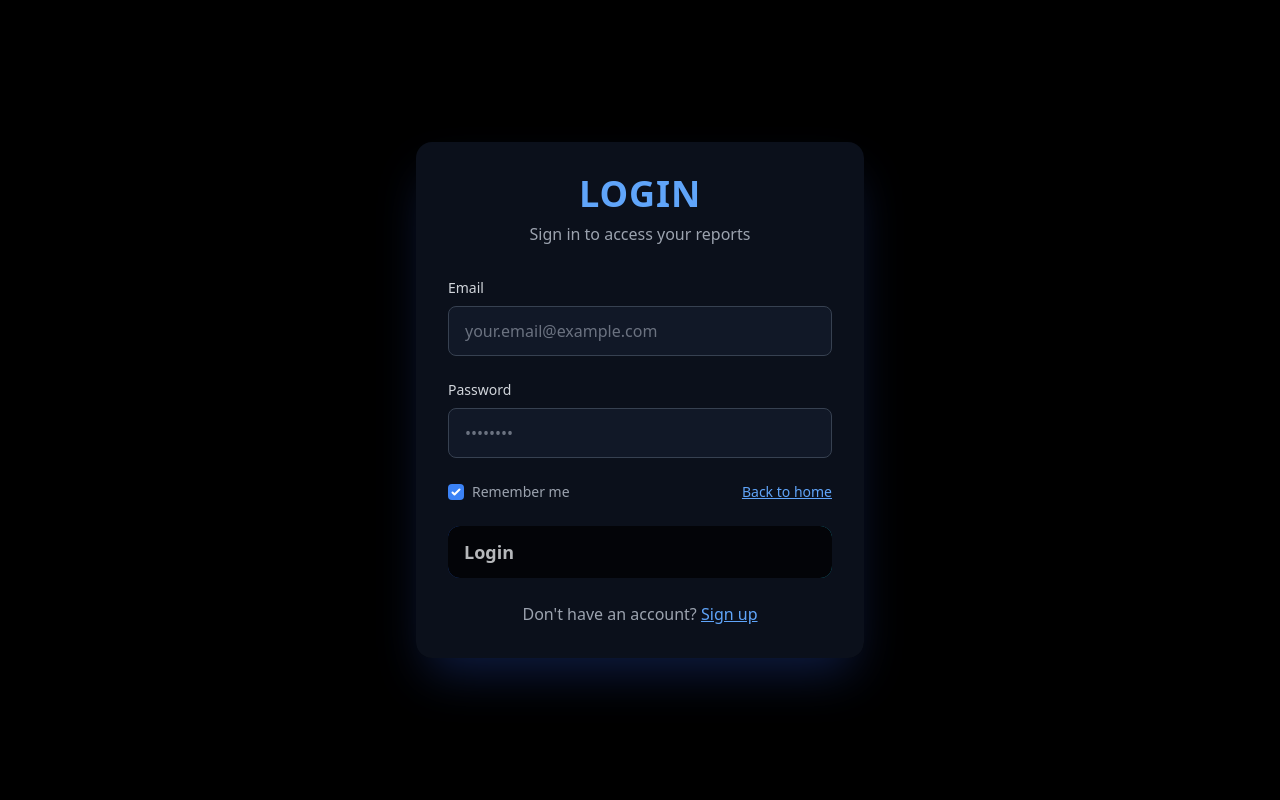
Test: LoginPage › shows fallback error message for unknown error types
This screenshot has width=1280, height=800.
Type "user@example.com" into the field labelled "Email". click: (640, 331)
box: [448,306,832,356]
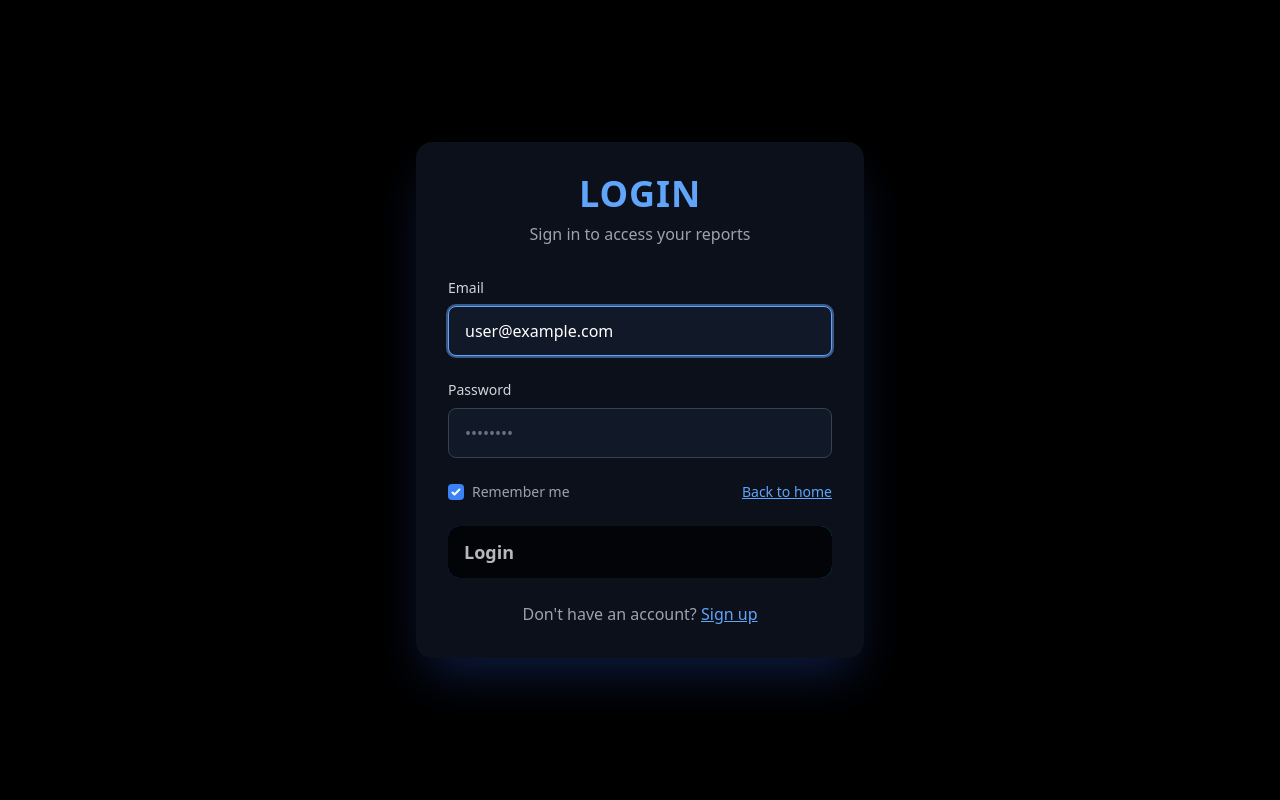
Type "password1" into the password field labelled "Password". click: (640, 433)
box: [448,408,832,458]
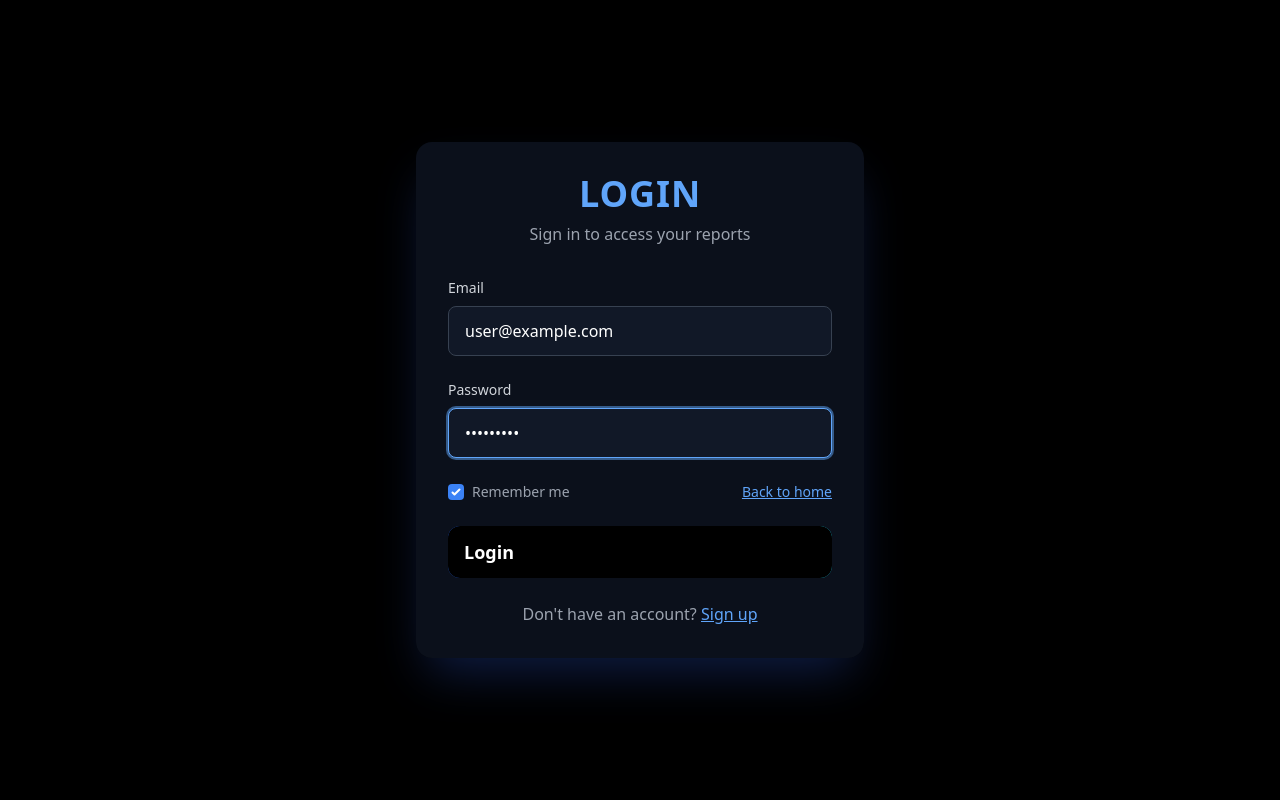
Click the button "Login". click: (489, 552)
box: [448,526,832,578]
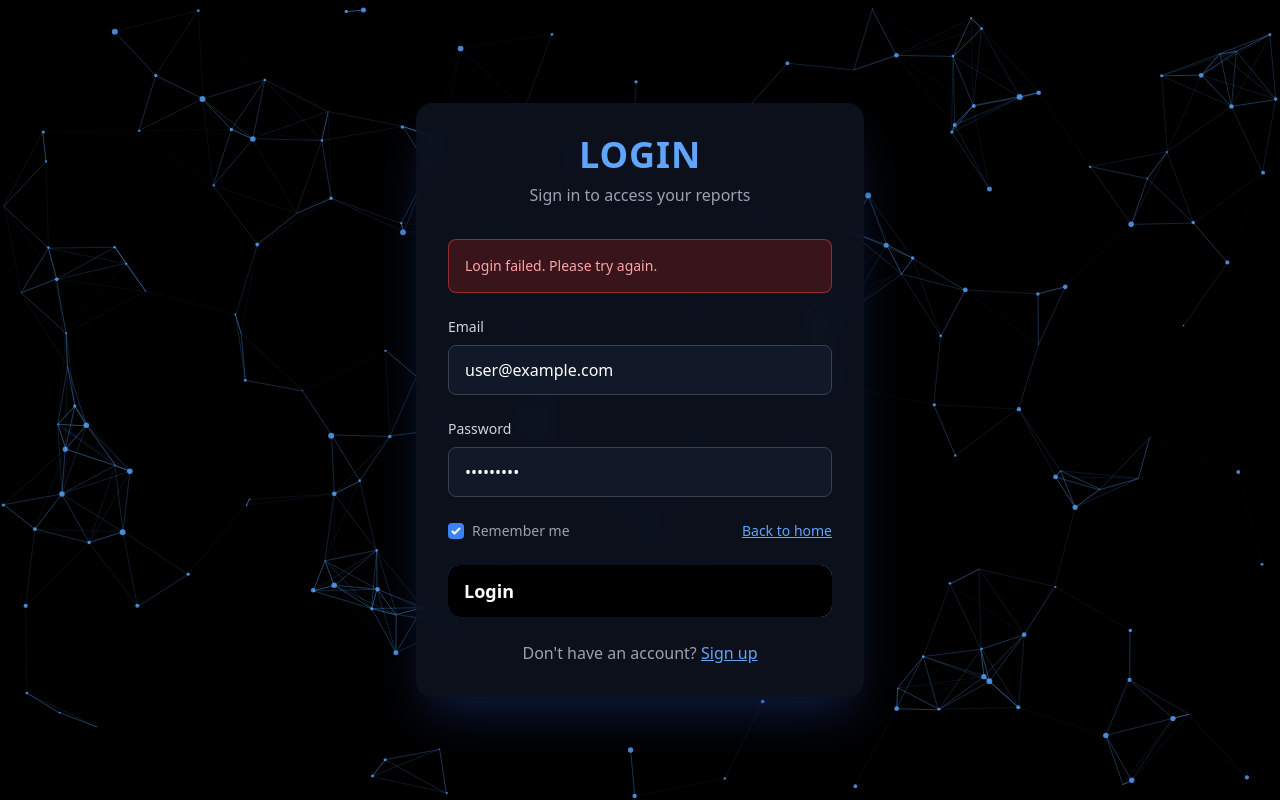
Result: the text "Login failed. Please try again." is shown at [465,256,657,275]
